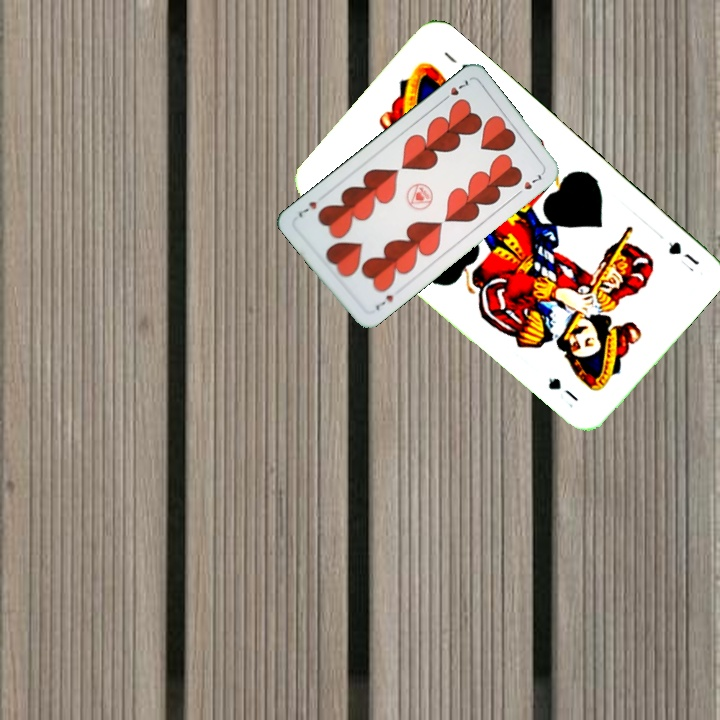GU: (664, 237, 702, 268)
H7: (438, 75, 473, 105), (371, 291, 396, 313)
